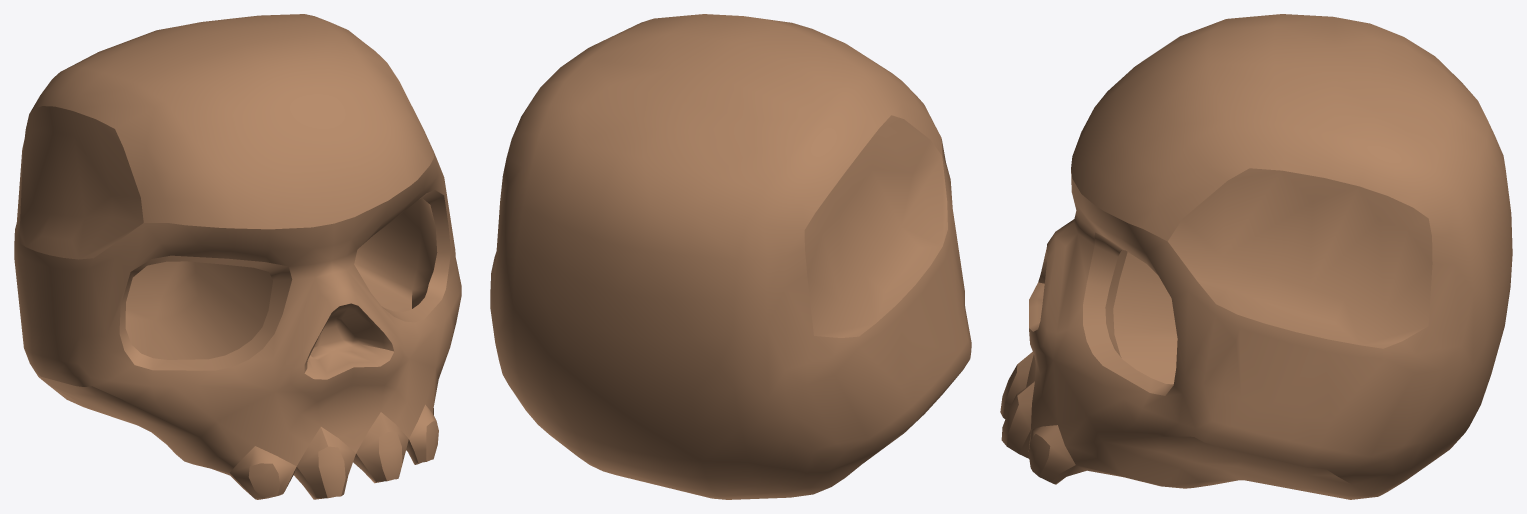
File: skulls.glb
3 views of the same model, side by side, from view 1: azimuth 30°, elevation 25°; view 2: azimuth 150°, elevation 25°; view 3: azimuth 270°, elevation 25° (orthographic). The views are drawn at different scales.
Parts seen in each view (by area): view 1: Environment_Skulls; view 2: Environment_Skulls; view 3: Environment_Skulls.
Boxes of the visible parts, x1,y1,x2,y2 form: Environment_Skulls: [14, 14, 461, 499]; Environment_Skulls: [490, 14, 971, 499]; Environment_Skulls: [1000, 14, 1512, 499].
Size of the model in its own units: 4.14 by 3.8 by 4.44.
